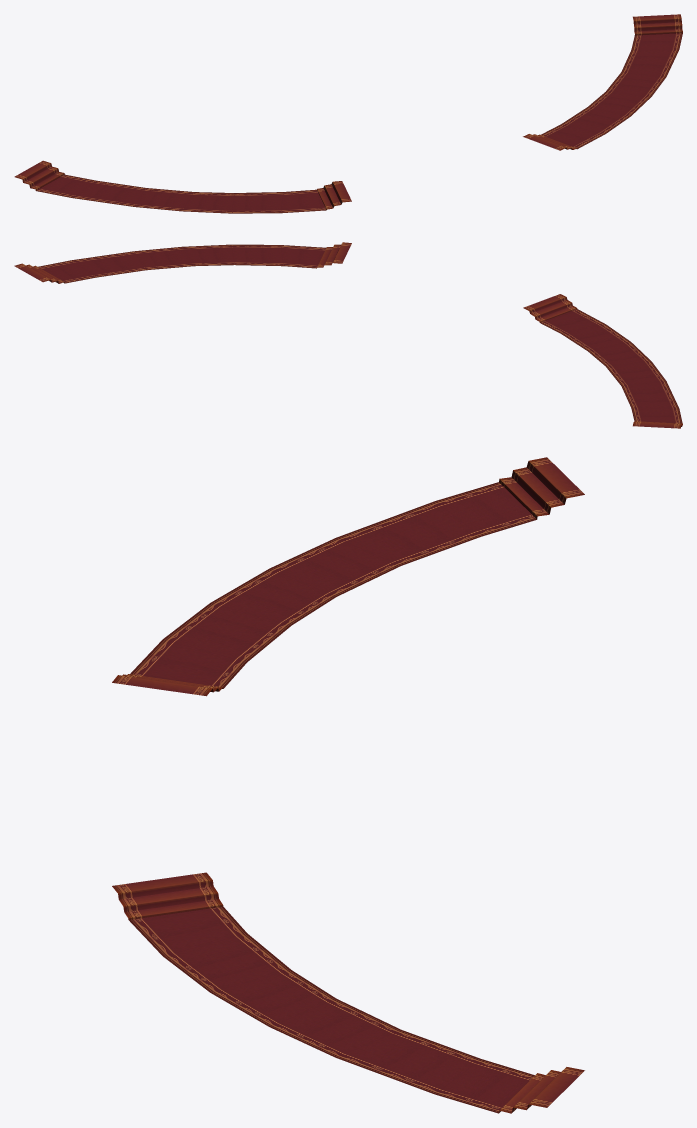
Rendered from ZYbui_CLF_ditai02_02.FBX.
3 views of the same model, one above another, from view 1: azimuth 30°, elevation 25°; view 2: azimuth 150°, elevation 25°; view 3: azimuth 270°, elevation 25° (orthographic). The views are drawn at different scales.
Visible parts, largest first — view 1: ZYbui_CLF_ditai02_02; view 2: ZYbui_CLF_ditai02_02; view 3: ZYbui_CLF_ditai02_02.
Part boxes in pixels (x1,y1,x2,y2): ZYbui_CLF_ditai02_02: (14,14,682,213); ZYbui_CLF_ditai02_02: (14,242,682,428); ZYbui_CLF_ditai02_02: (112,457,584,1113).
Size of the model in its own units: 4676 by 51.11 by 1438.
